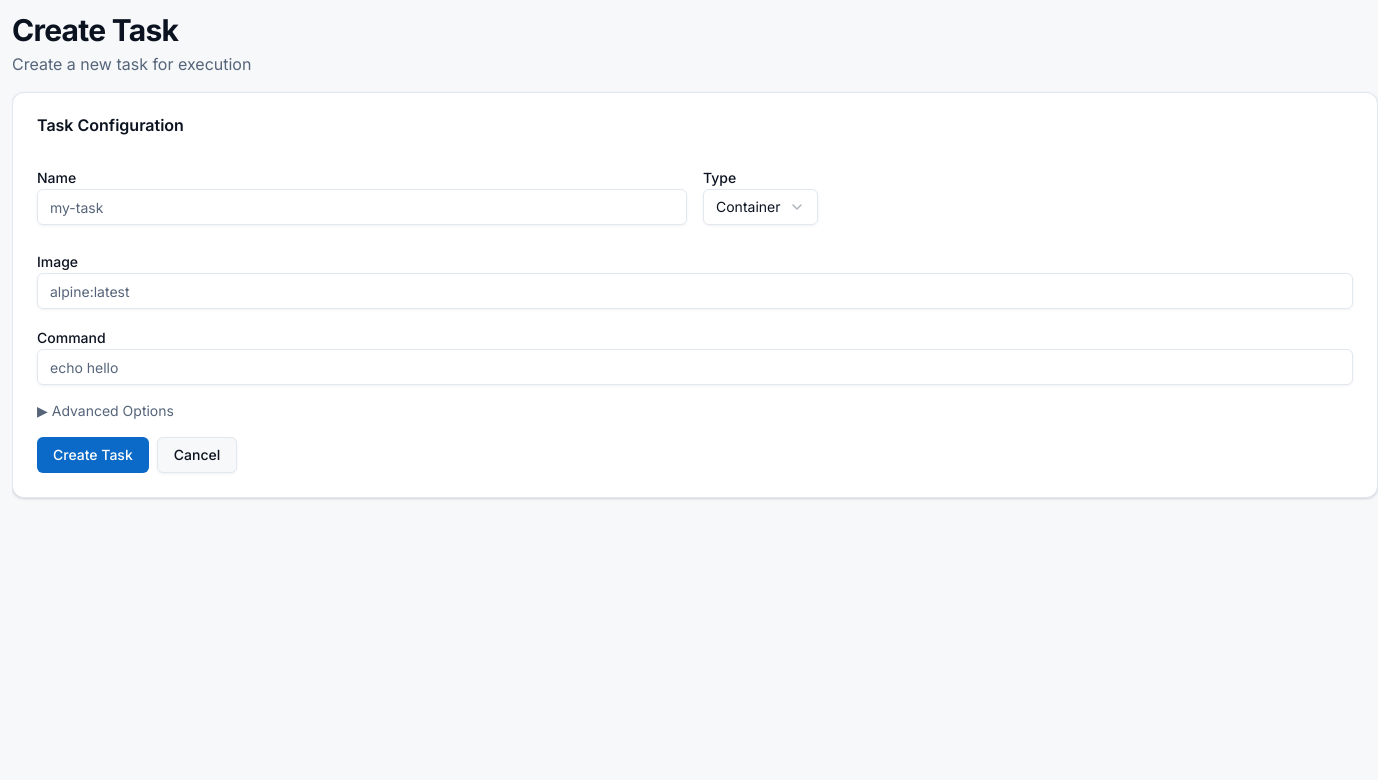
Test: TaskCreateForm › AI type shows provider, model, prompt fields
The width and height of the screenshot is (1378, 780).
Open the type select
Press the mouse on the dropdown labelled "Container": [760, 207] box left=703, top=189, right=818, bottom=225
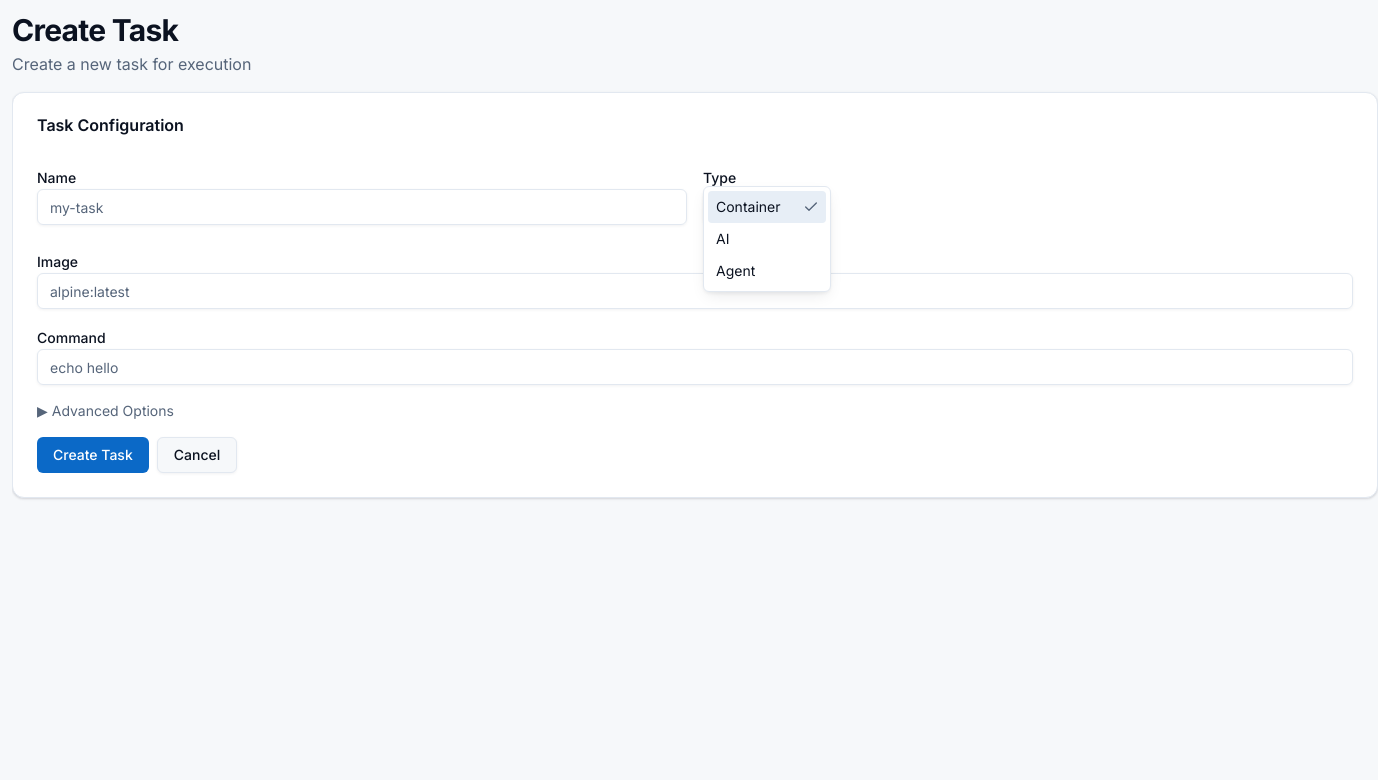
Expected: the option "AI" is shown
Click the option "AI": [723, 238] box left=716, top=230, right=729, bottom=247
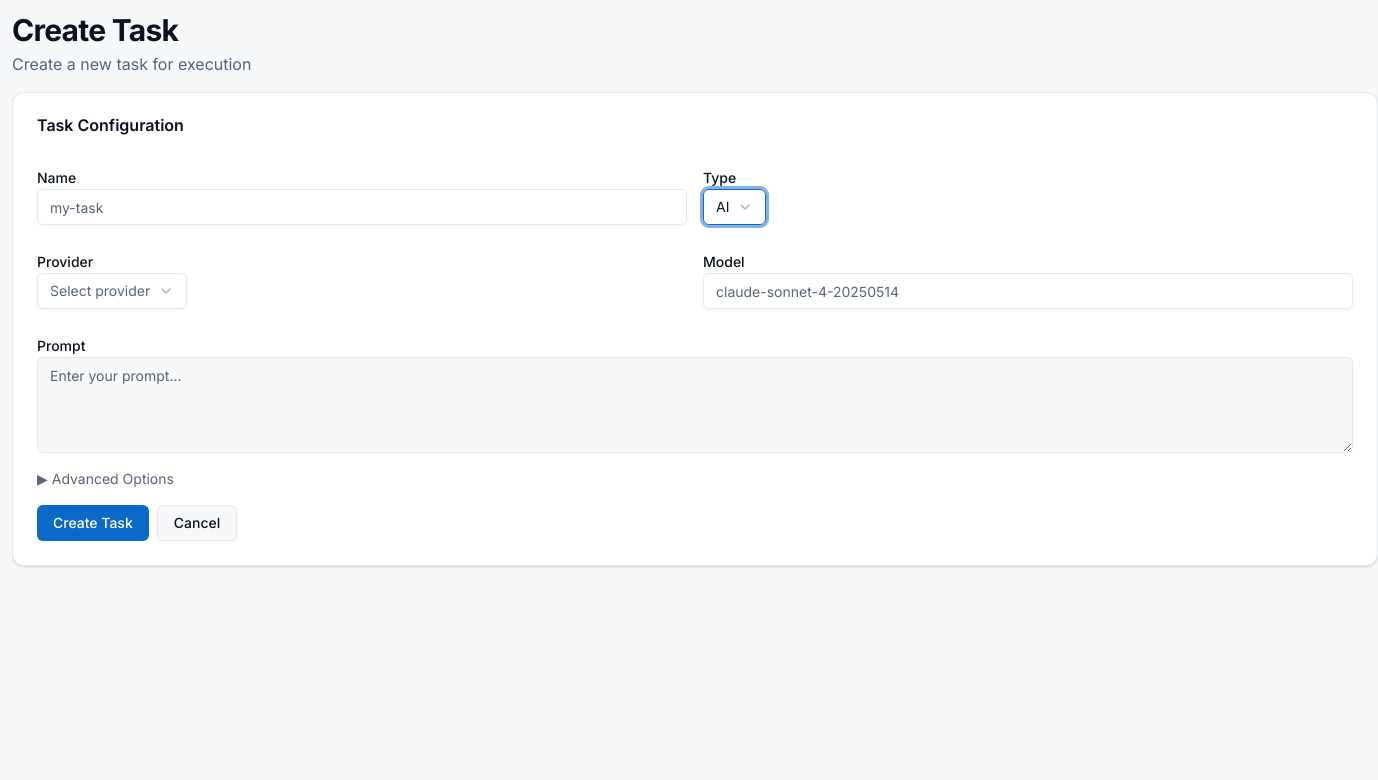
Expected: the text "Provider" is shown, left=37, top=253, right=93, bottom=270
Expected: the text "Model" is shown, left=703, top=253, right=745, bottom=270
Expected: the text "Prompt" is shown, left=37, top=337, right=86, bottom=354
